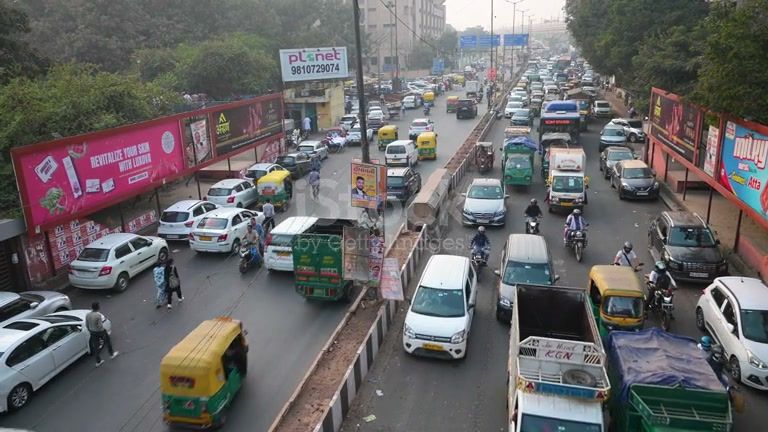bus: (539, 100, 582, 146), (502, 137, 539, 185)
car: (605, 327, 735, 431), (159, 316, 250, 430), (0, 314, 94, 416), (695, 275, 767, 392), (402, 254, 479, 360), (493, 233, 560, 325), (68, 231, 169, 292), (647, 210, 728, 281), (587, 264, 647, 331), (187, 207, 266, 255), (263, 216, 320, 273), (156, 198, 220, 241), (0, 289, 72, 327), (461, 176, 508, 227), (612, 159, 661, 201), (547, 172, 587, 215), (205, 177, 258, 208), (0, 290, 39, 326), (600, 146, 635, 180), (241, 162, 291, 185), (274, 152, 314, 180), (385, 140, 421, 169), (295, 140, 329, 163), (323, 128, 348, 153), (455, 100, 478, 120), (592, 100, 613, 118)
motorcycle: (646, 275, 677, 331), (238, 237, 264, 276), (566, 226, 589, 262)
pedestrian: (646, 254, 678, 308), (85, 301, 113, 358), (562, 204, 589, 246), (469, 224, 492, 266), (613, 240, 643, 270), (153, 256, 170, 308), (164, 259, 183, 304), (524, 197, 543, 233), (260, 200, 276, 241), (307, 169, 322, 199)
truck: (506, 283, 613, 429), (159, 316, 250, 429), (292, 217, 383, 303), (545, 145, 588, 213), (539, 100, 582, 144)
